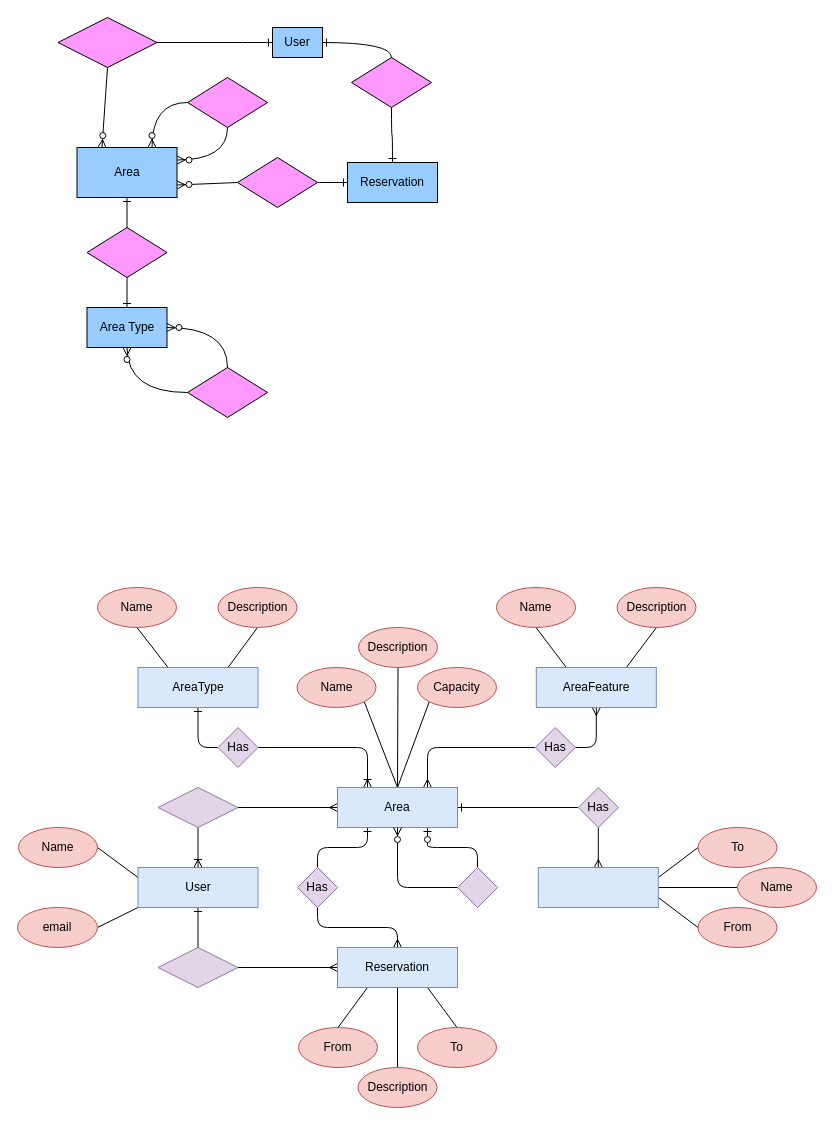
The diagram is 834 pixels wide and 1125 high, and some of its shapes have lost their labels. Here are the shapes that lost their labels. From the top down, the centre of each, then its label:
point (107, 42): Administrates
point (227, 102): Is within
point (391, 82): Places
point (277, 182): Is for an
point (126, 252): Is a
point (227, 392): Can exist in
point (197, 807): Admins
point (477, 887): within
point (597, 887): Plan
point (197, 967): Makes
